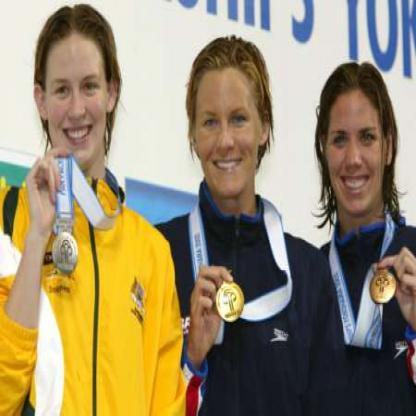face: (46, 14, 110, 169), (196, 50, 263, 198), (327, 70, 389, 216)
